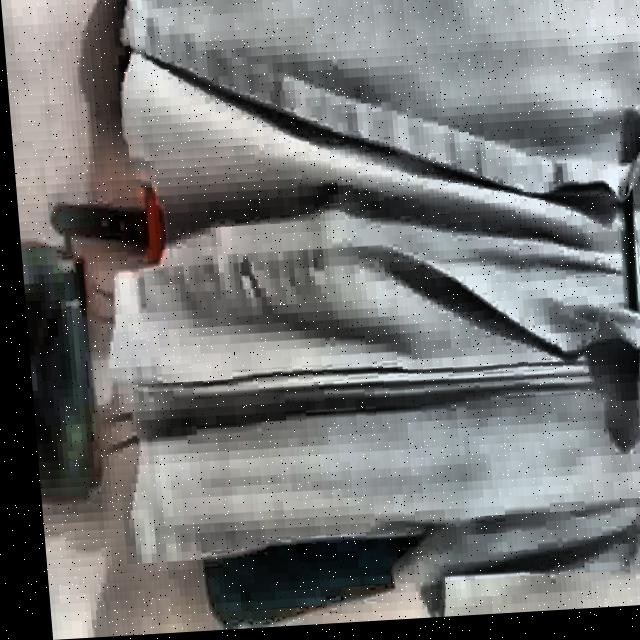clothes: (69, 0, 640, 625)
